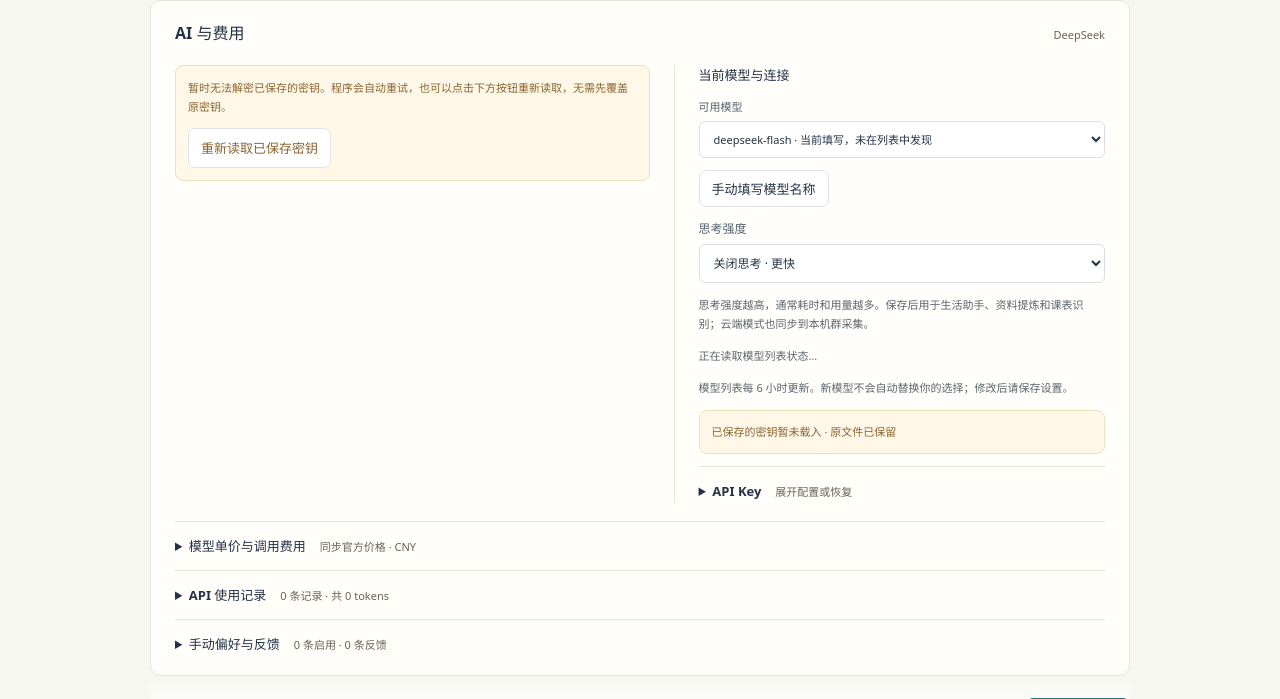
Scenario: DeepSeek account settings › distinguishes a temporary load failure and recovers without entering or displaying a key
expect the text "已保存的密钥暂未载入 · 原文件已保留" is shown: met, box 699,410 -> 1105,454
expect the element labelled "API Key" is empty: met, box 699,466 -> 1105,503
Click the button "重新读取已保存密钥".
click(260, 148)  # box 188,128 -> 331,168
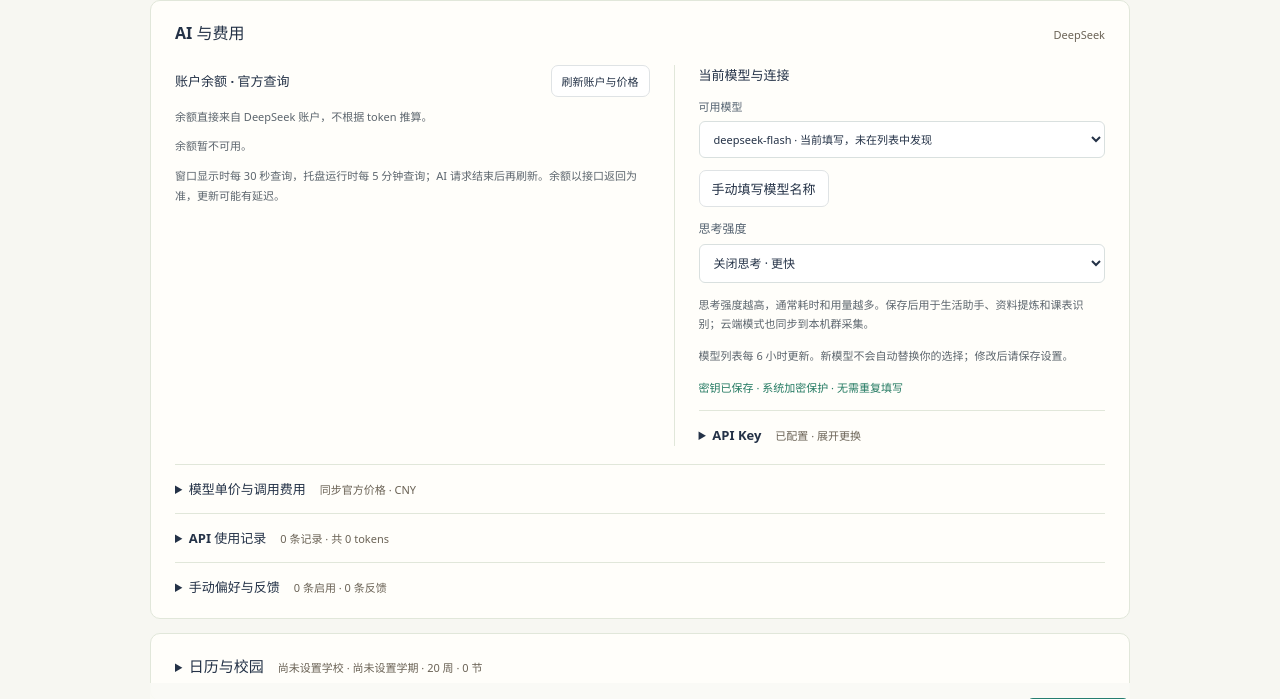
expect the element labelled "API Key" is empty: met, box 699,410 -> 1105,446
expect the text "密钥已保存 · 系统加密保护 · 无需重复填写" is shown: met, box 699,380 -> 903,395
expect the button "重新读取已保存密钥" is gone: met
